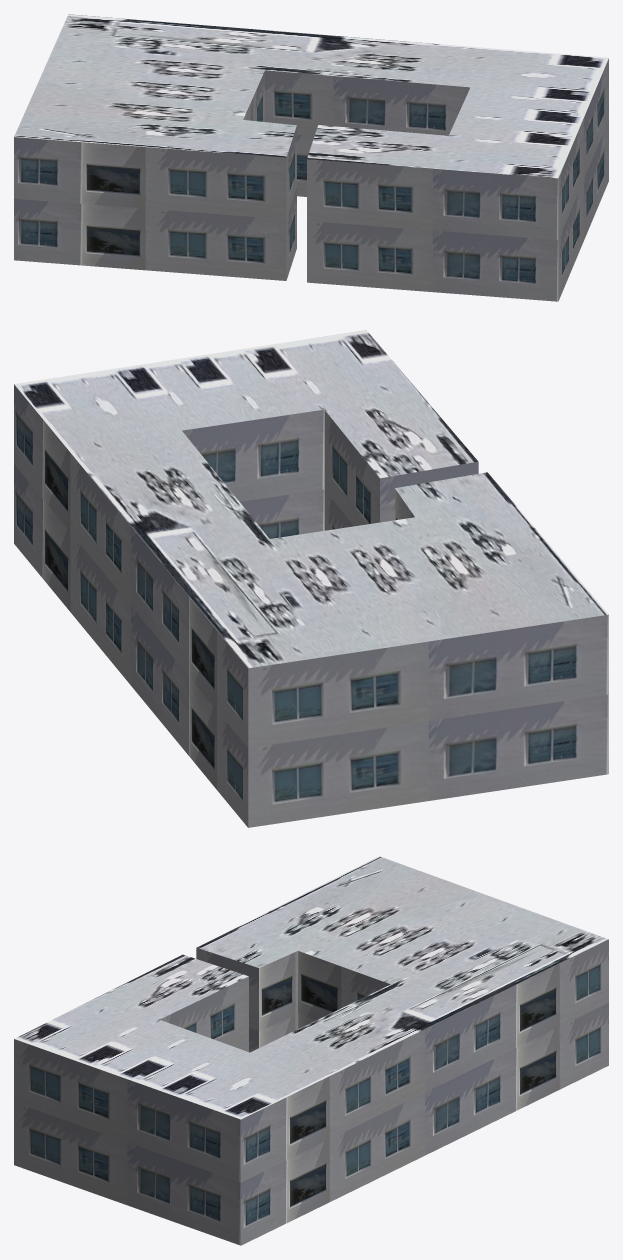
File: ResTex__1852.fbx
The picture shows the model from 3 angles, top to bottom: view 1: azimuth 30°, elevation 25°; view 2: azimuth 150°, elevation 25°; view 3: azimuth 270°, elevation 25°; orthographic projection. The views are drawn at different scales.
Visible parts, largest first — view 1: CityEngineMaterial_10_m, CityEngineMaterial_m; view 2: CityEngineMaterial_10_m, CityEngineMaterial_m; view 3: CityEngineMaterial_10_m, CityEngineMaterial_m.
Part boxes in pixels (x1,y1,x2,y2): CityEngineMaterial_10_m: (14, 58, 608, 301); CityEngineMaterial_m: (14, 14, 608, 178); CityEngineMaterial_10_m: (14, 384, 608, 827); CityEngineMaterial_m: (14, 330, 608, 668); CityEngineMaterial_10_m: (14, 939, 608, 1245); CityEngineMaterial_m: (14, 856, 608, 1119).
Bounding box in the file's own units: 26.86 × 6 × 25.64.
2 materials, 2 textured.
